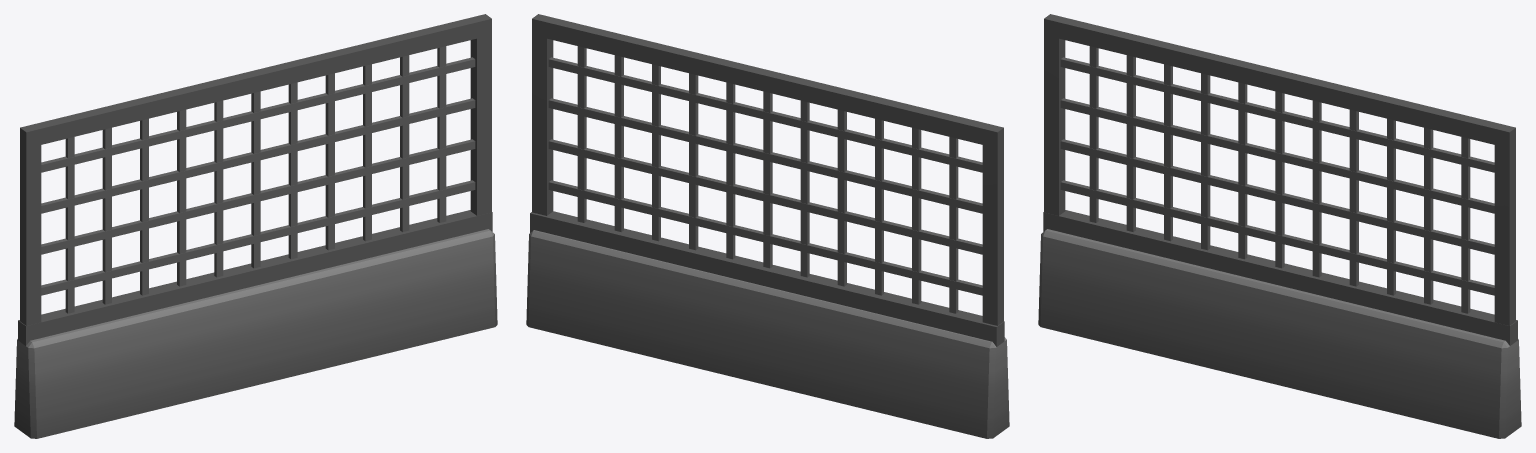
Rendered from Fence_1_F_4.fbx.
The picture shows the model from 3 angles, left to right: view 1: azimuth 30°, elevation 25°; view 2: azimuth 150°, elevation 25°; view 3: azimuth 330°, elevation 25°; orthographic projection.
Parts seen in each view (by area): view 1: Fence_1_F_4; view 2: Fence_1_F_4; view 3: Fence_1_F_4.
Boxes of the visible parts, x1,y1,x2,y2 form: Fence_1_F_4: (14, 14, 497, 438); Fence_1_F_4: (526, 14, 1009, 438); Fence_1_F_4: (1038, 14, 1521, 438).
Size of the model in its own units: 400 by 248 by 30.52.
